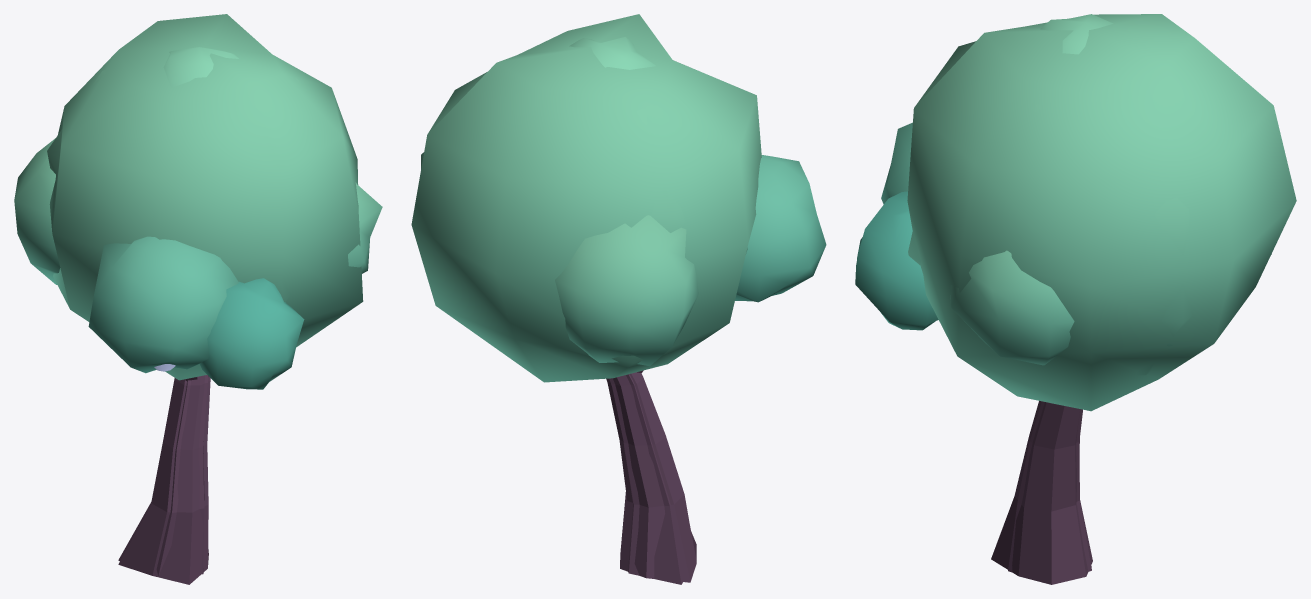
Rendered from fol_tree_stranger_a.glb.
3 views of the same model, side by side, from view 1: azimuth 30°, elevation 25°; view 2: azimuth 150°, elevation 25°; view 3: azimuth 270°, elevation 25° (orthographic). The views are drawn at different scales.
Visible parts, largest first — view 1: lod1__tree_a_canopy, lod0__tree_a_canopy, lod0__tree_a_trunk, lod1__tree_a_trunk, lod2__tree_a_canopy; view 2: lod1__tree_a_canopy, lod0__tree_a_canopy, lod0__tree_a_trunk, lod1__tree_a_trunk, lod2__tree_a_canopy; view 3: lod1__tree_a_canopy, lod0__tree_a_canopy, lod0__tree_a_trunk, lod2__tree_a_canopy, lod1__tree_a_trunk.
Part boxes in pixels (bbox=[...]): lod1__tree_a_canopy: bbox=[49, 14, 363, 380]; lod0__tree_a_canopy: bbox=[14, 47, 382, 389]; lod0__tree_a_trunk: bbox=[118, 375, 210, 584]; lod1__tree_a_trunk: bbox=[118, 375, 208, 575]; lod2__tree_a_canopy: bbox=[47, 69, 300, 302]; lod1__tree_a_canopy: bbox=[411, 14, 761, 382]; lod0__tree_a_canopy: bbox=[555, 37, 826, 366]; lod0__tree_a_trunk: bbox=[606, 370, 696, 582]; lod1__tree_a_trunk: bbox=[609, 374, 696, 584]; lod2__tree_a_canopy: bbox=[421, 109, 747, 314]; lod1__tree_a_canopy: bbox=[907, 14, 1296, 411]; lod0__tree_a_canopy: bbox=[855, 14, 1172, 365]; lod0__tree_a_trunk: bbox=[991, 401, 1092, 584]; lod2__tree_a_canopy: bbox=[908, 104, 1271, 375]; lod1__tree_a_trunk: bbox=[1008, 401, 1091, 572].
Size of the model in its own units: 2.96 by 4.45 by 3.12.
